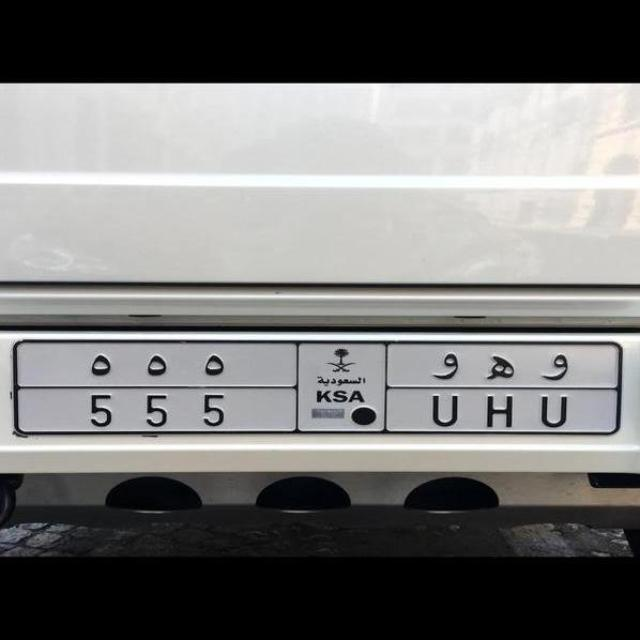license_plate: (11, 337, 617, 437)
